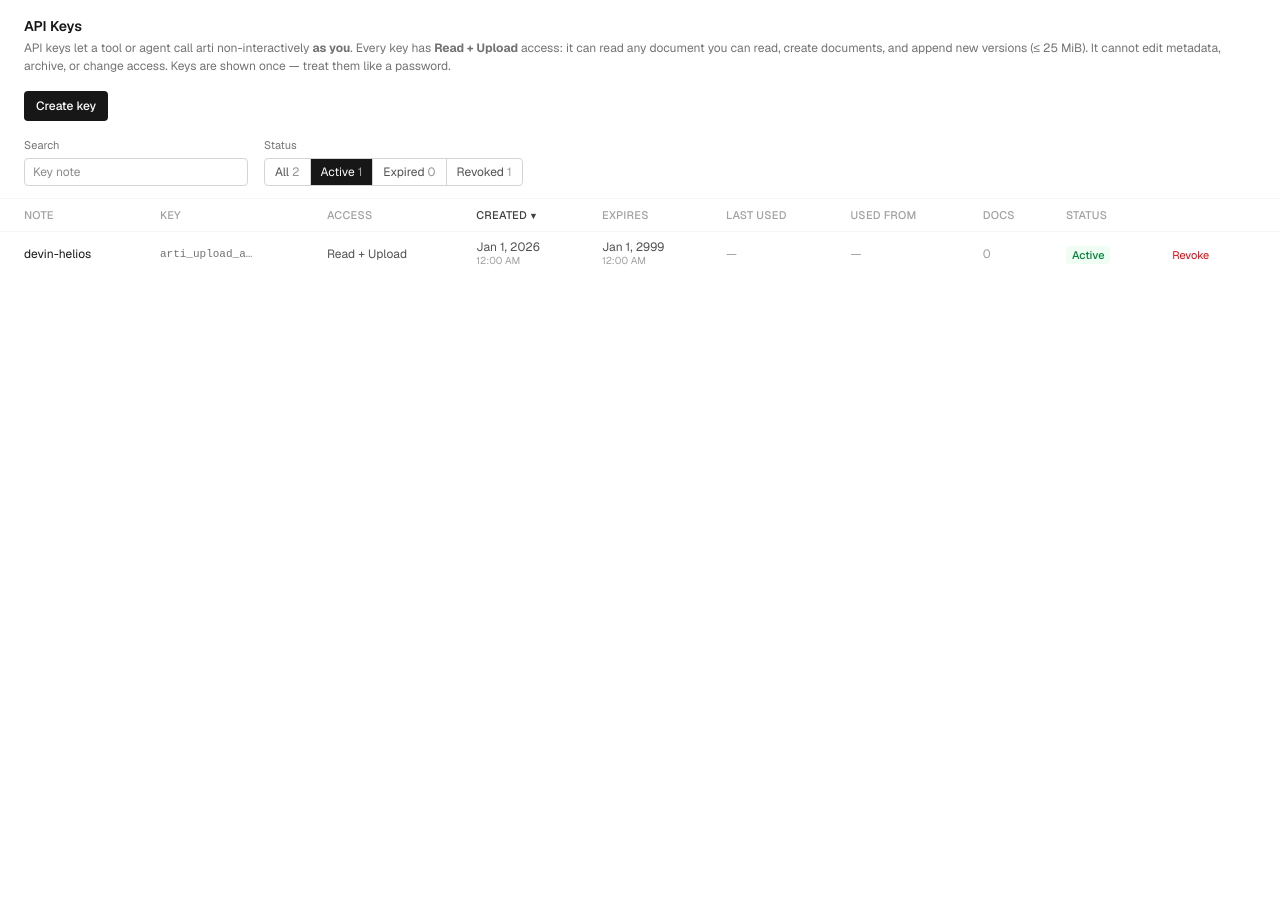
Test: new API key dialog › does not create a key until Generate, and Cancel closes without one
What coordinates should you click on to do the following:
click the button "Create key"
I would click on:
 (66, 106)
Its box is left=24, top=91, right=108, bottom=121.
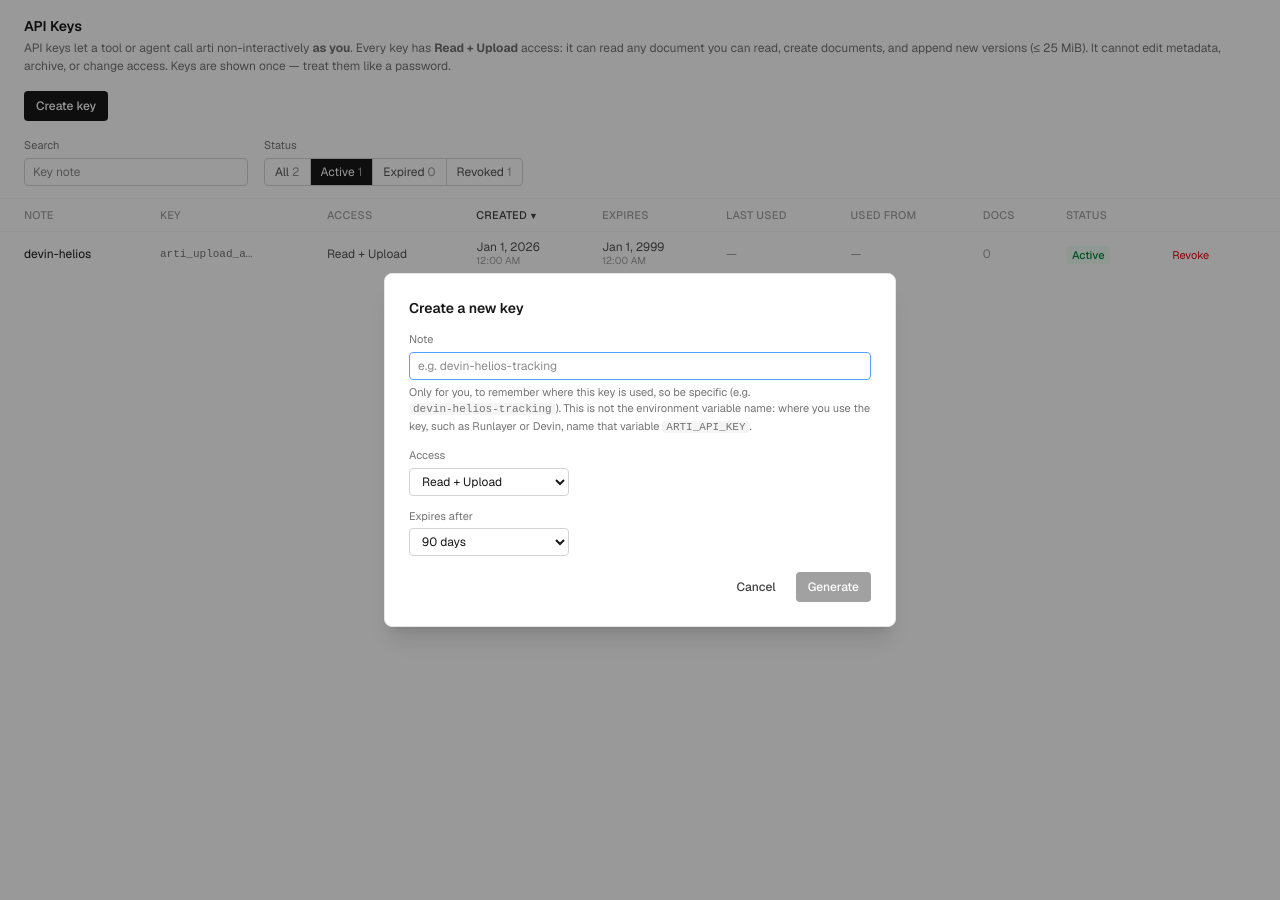
Now the button "Generate" is disabled, box left=796, top=572, right=871, bottom=602
What coordinates should you click on to do the following:
click the button "Cancel"
I would click on:
 (756, 587)
Its box is left=725, top=572, right=788, bottom=602.
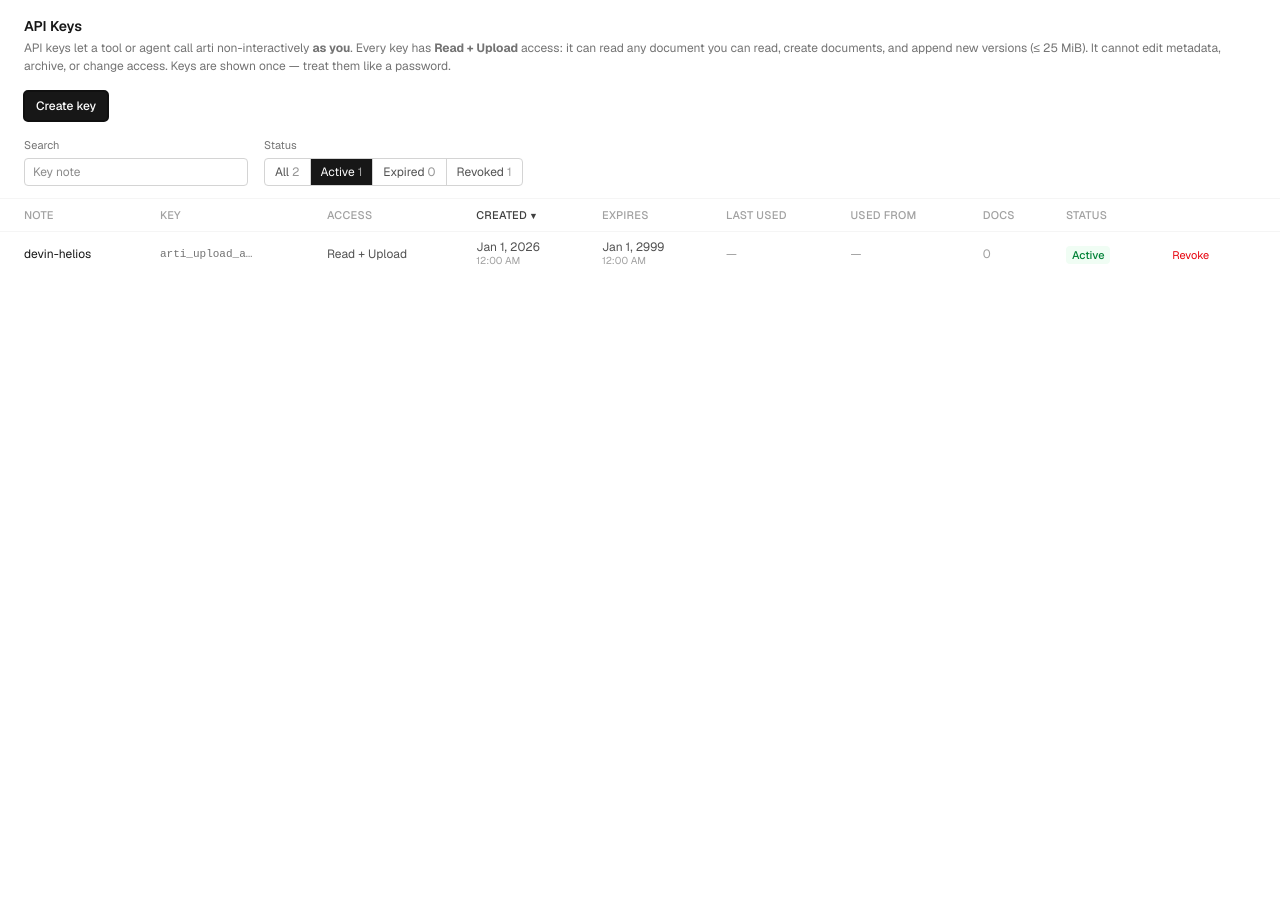
Now the label with id "key-ttl" is gone
